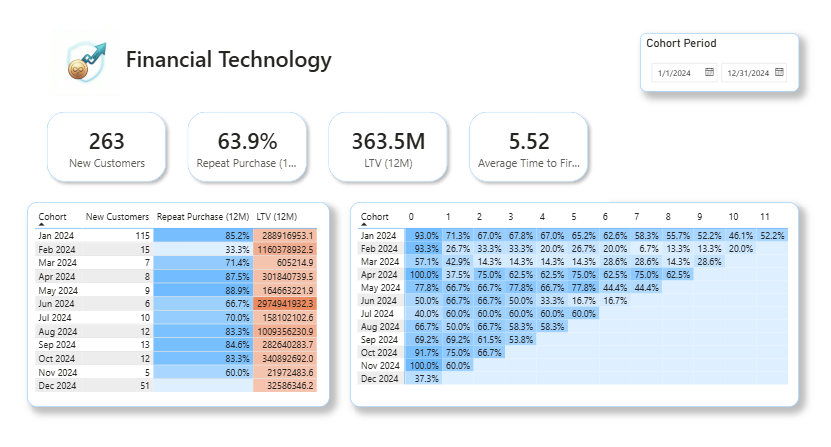

This screenshot's page, from the dashboard's own definition file:
{"tool":"powerbi","page":{"name":"Cohort","canvas":[1280,720],"ordinal":1},"visuals":[{"type":"slicer","title":"Cohort Period","fields":{"Values":["Assignment Cohort Data - Fintech Data.date"]},"box":[955.6,86.3,232.7,86.3],"z":0},{"type":"tableEx","fields":{"Values":["Assignment Cohort Data - Fintech Data.signup_month_year","Measure.New Customer","Measure.Repeat Purchase (12M)","Measure.LTV (12M)"]},"box":[58.5,333.7,443.4,300],"z":1000},{"type":"pivotTable","fields":{"Rows":["Assignment Cohort Data - Fintech Data.signup_month_year"],"Columns":["Assignment Cohort Data - Fintech Data.cohort_period"],"Values":["Measure.Retention %"]},"box":[531.2,333.7,657.1,300],"z":2000},{"type":"cardVisual","title":"Free Trials Rate","fields":{"Data":["Measure.New Customers","Measure.Repeat Purchase (12M)","Measure.LTV (12M)","Measure.Average Time to First Purchase (Days)"]},"box":[58.5,172.7,851.7,161],"z":3000},{"type":"textbox","box":[197.6,96.6,333.7,65.9],"z":3001},{"type":"image","box":[58.5,80.5,172.7,98],"z":3002}]}

Visuals, with their boxes on the page's 1280x720 design canvas (x1, y1, x2, y2). These are canvas units, not pixel positions in the 831x447 screenshot, which may show the page scaled, cropped or inside an application window:
"Cohort Period" slicer: 956, 86, 1188, 173
tableEx - Assignment Cohort Data - Fintech Data.signup_month_year x Measure.New Customer: 58, 334, 502, 634
pivotTable - Assignment Cohort Data - Fintech Data.signup_month_year x Assignment Cohort Data - Fintech Data.cohort_period: 531, 334, 1188, 634
"Free Trials Rate" cardVisual: 58, 173, 910, 334
textbox: 198, 97, 531, 162
image: 58, 80, 231, 178
